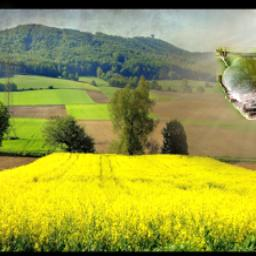Sparrow: (216, 47, 256, 120)
